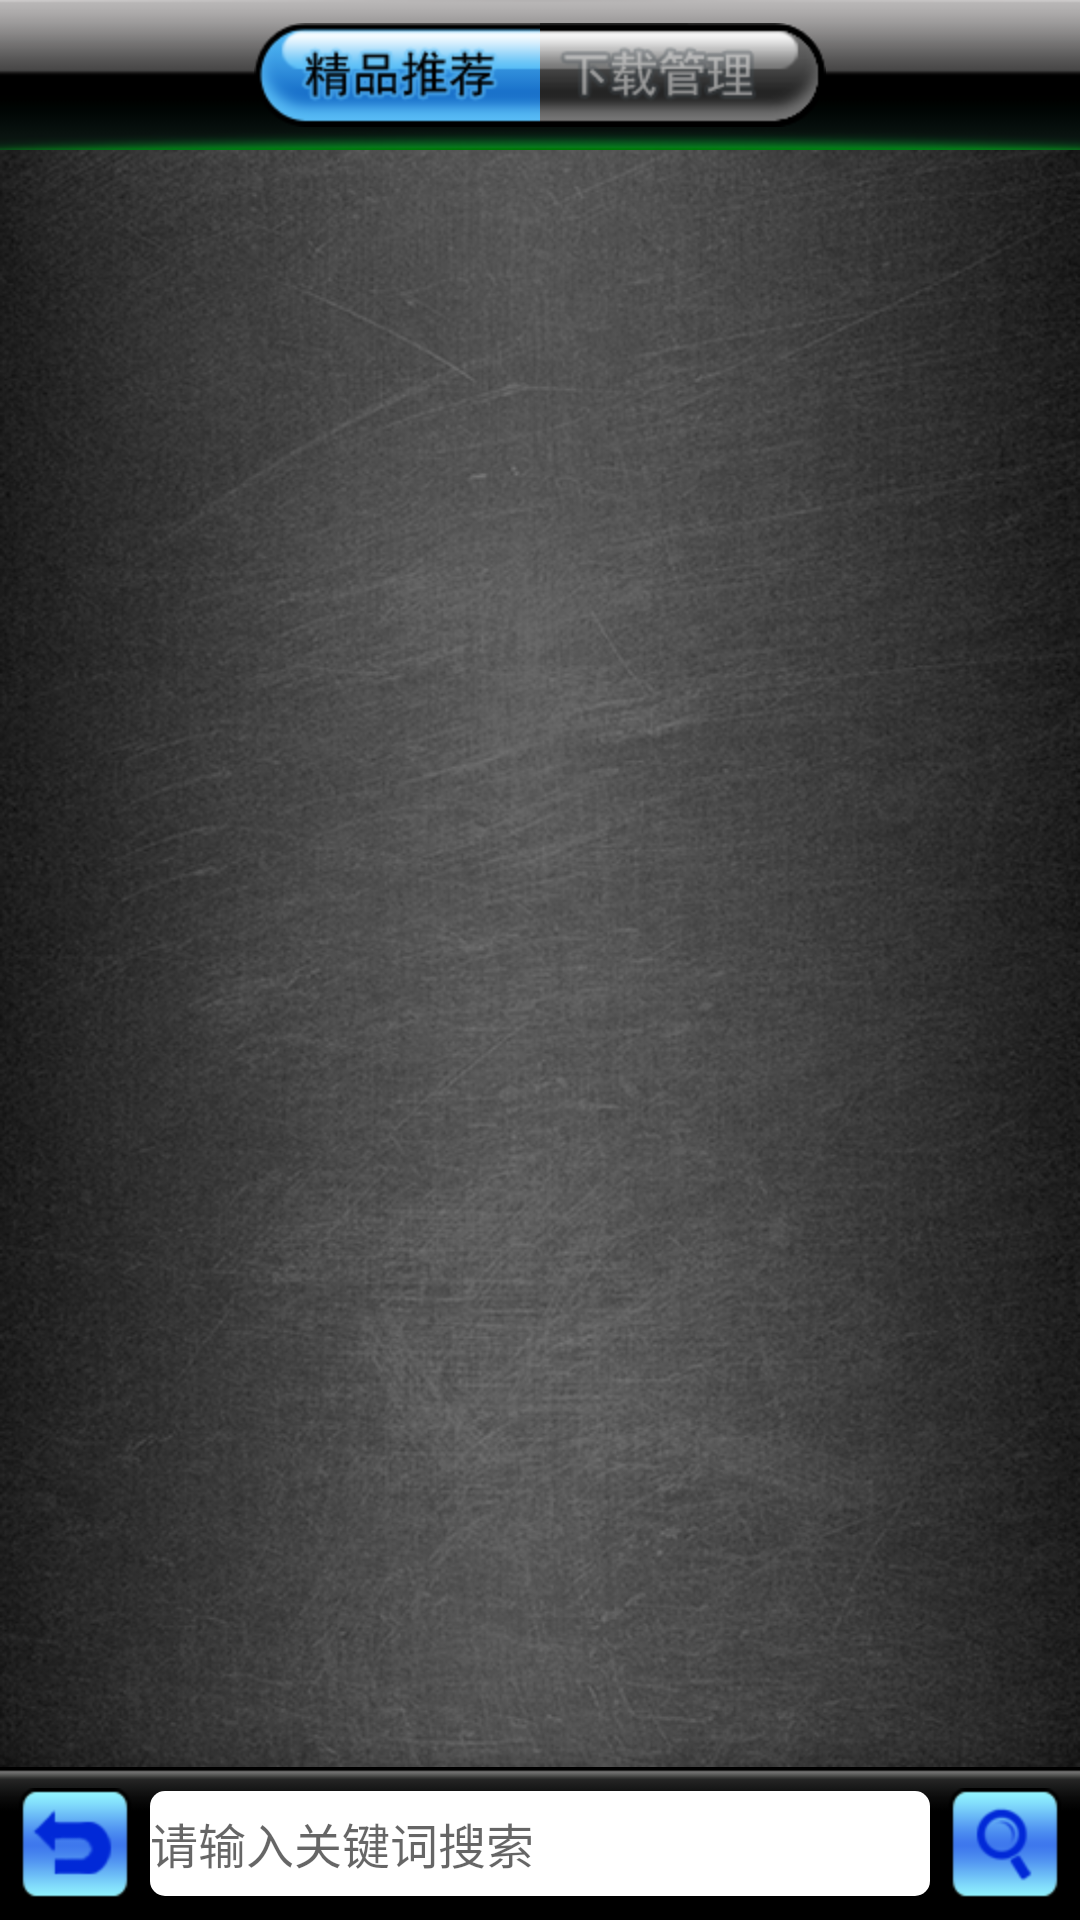

Named icons in this screenshot (1080 × 1920) and their centers, [x,y]:
goback: [75,1844]
search: [1005,1844]
